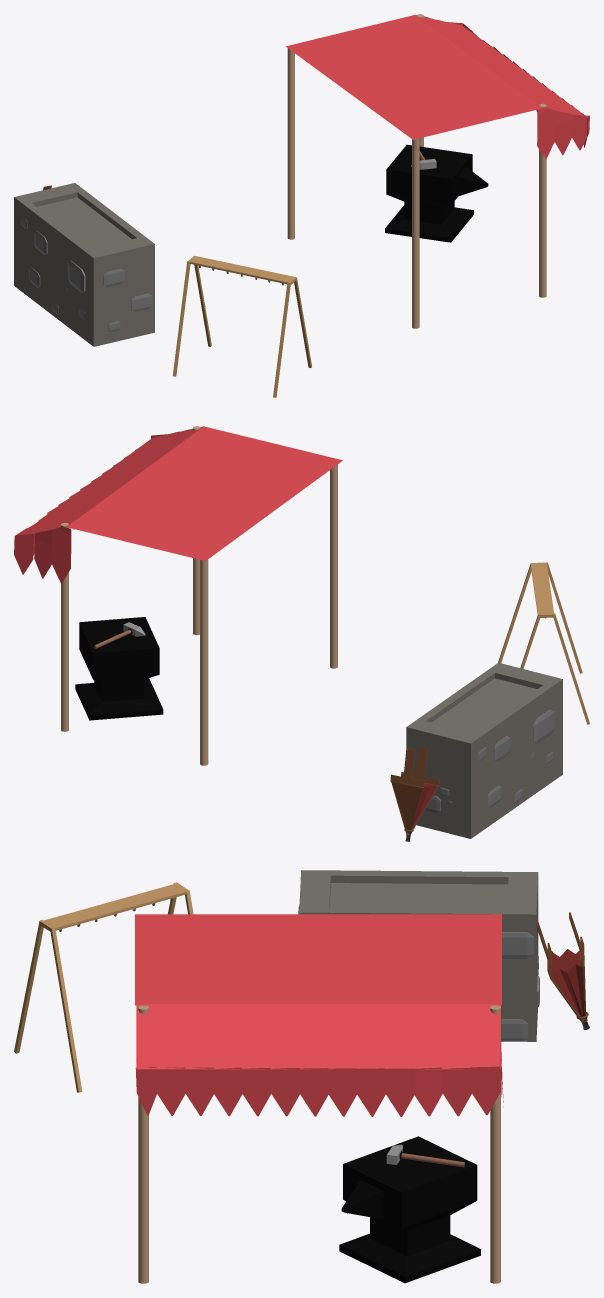
The model's file is puestitoblend_bueno.fbx.
3 renders of one model, top to bottom at view 1: azimuth 30°, elevation 25°; view 2: azimuth 150°, elevation 25°; view 3: azimuth 270°, elevation 25°, orthographic. The views are drawn at different scales.
Parts seen in each view (by area): view 1: Plane.002, Cube.021, Plane.022, Plane.001, Torus.001, Cylinder.003, Cylinder.002, Cylinder.001, Plane.021, Plane.020, Plane.019; view 2: Cube.021, Plane.002, Plane.022, Plane.001, Torus.001, Cylinder.002, Cylinder.003, Cylinder, Plane.003, Plane.004, Plane.005, Cylinder.001 (+1 smaller); view 3: Plane.002, Plane.001, Cube.021, Plane.022, Torus.001, Cylinder, Cylinder.001, Plane.006, Plane.008, Plane.013, Plane.011, Plane.010 (+11 smaller).
Boxes of the visible parts, box(x1,y1,x2,y2) form: Plane.002: box(286, 14, 542, 139); Cube.021: box(14, 183, 154, 346); Plane.022: box(385, 144, 488, 242); Plane.001: box(415, 15, 588, 118); Torus.001: box(172, 255, 311, 397); Cylinder.003: box(412, 138, 419, 328); Cylinder.002: box(287, 48, 294, 239); Cylinder.001: box(539, 103, 546, 297); Plane.021: box(537, 107, 554, 159); Plane.020: box(554, 110, 572, 155); Plane.019: box(572, 114, 589, 150); Cube.021: box(390, 662, 562, 841); Plane.002: box(66, 426, 342, 560); Plane.022: box(75, 617, 163, 720); Plane.001: box(20, 426, 203, 534); Torus.001: box(498, 562, 589, 724); Cylinder.002: box(200, 559, 208, 765); Cylinder.003: box(330, 464, 337, 668); Cylinder: box(61, 522, 68, 731); Plane.003: box(51, 526, 71, 583); Plane.004: box(34, 529, 52, 578); Plane.005: box(14, 534, 33, 574); Cylinder.001: box(193, 426, 200, 635); Plane.002: box(135, 914, 501, 1005); Plane.001: box(136, 1004, 500, 1069); Cube.021: box(299, 870, 589, 1041); Plane.022: box(339, 1136, 480, 1283); Torus.001: box(14, 882, 193, 1092); Cylinder: box(490, 1005, 500, 1283); Cylinder.001: box(138, 1005, 148, 1283); Plane.006: box(470, 1066, 500, 1115); Plane.008: box(385, 1068, 415, 1116); Plane.013: box(356, 1068, 386, 1116); Plane.011: box(270, 1068, 300, 1116); Plane.010: box(299, 1068, 329, 1116).
Bounding box in the file's own units: 1457 × 604 × 1148.
